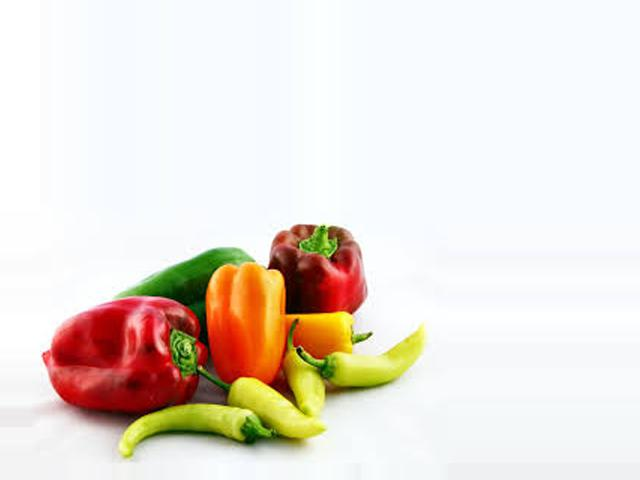bell_pepper: (106, 404, 283, 454)
